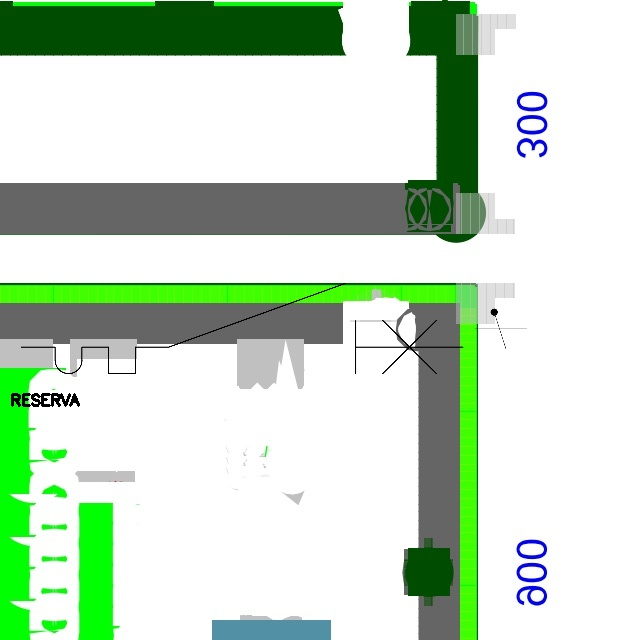interruptor_termomagnetico: (10, 272, 474, 385)
